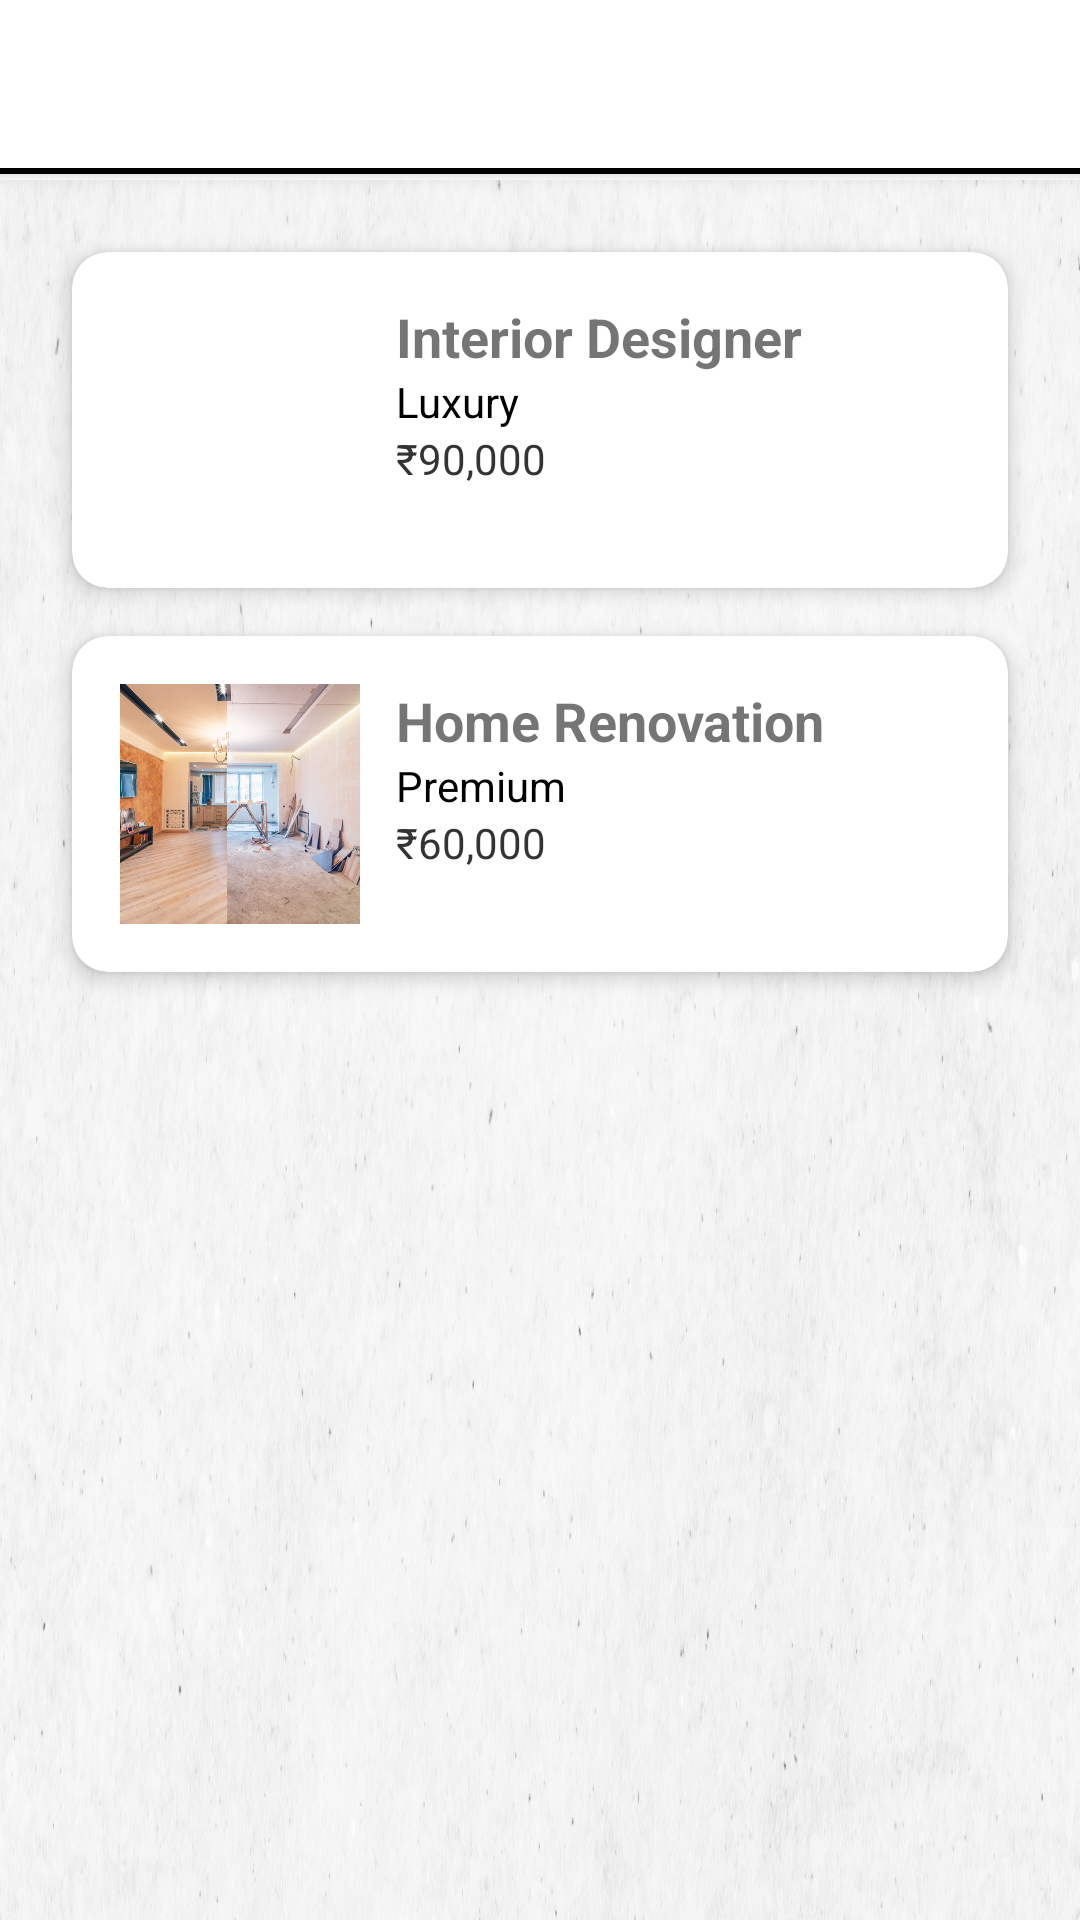

Screen size 1080 × 1920. Icon name, then its box in pixels as (x1, y1, x2, y2):
grid home renorvation: (120, 684, 360, 924)
